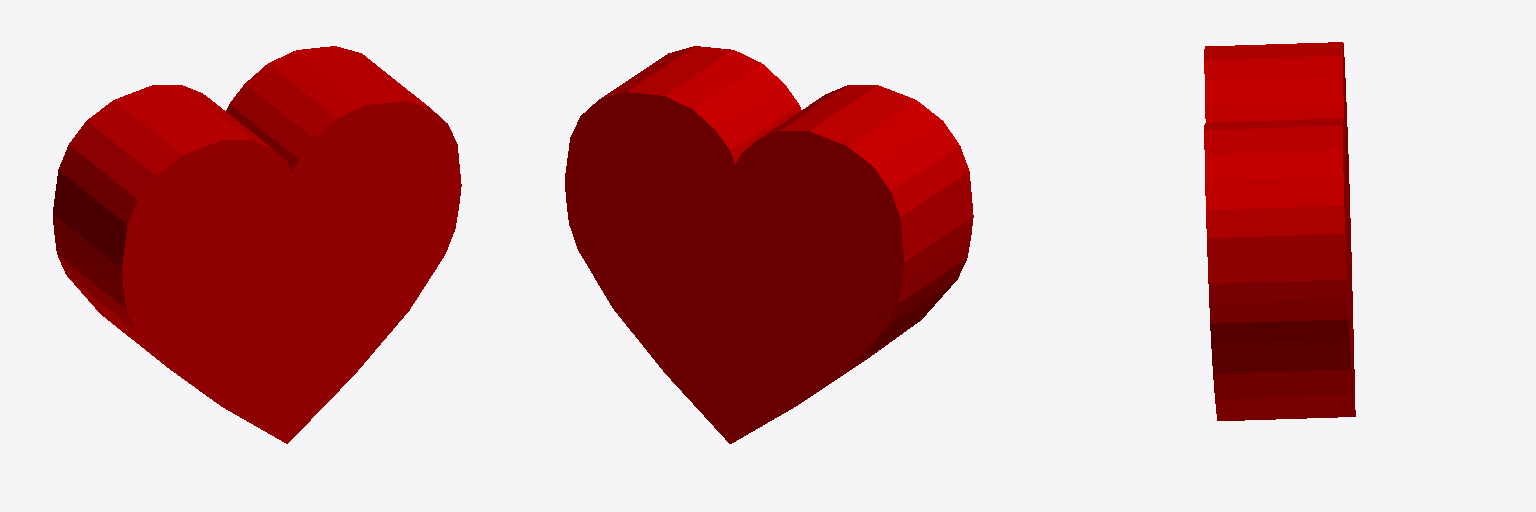
The model's file is stlheart.obj.
The picture shows the model from 3 angles: view 1: azimuth 30°, elevation 25°; view 2: azimuth 150°, elevation 25°; view 3: azimuth 270°, elevation 25°; orthographic projection.
Parts seen in each view (by area): view 1: Heart; view 2: Heart; view 3: Heart.
Part boxes in pixels (x1,y1,x2,y2): Heart: (53, 46, 461, 443); Heart: (565, 46, 973, 443); Heart: (1204, 42, 1355, 420).
Size of the model in its own units: 2.83 by 2.63 by 1.09.